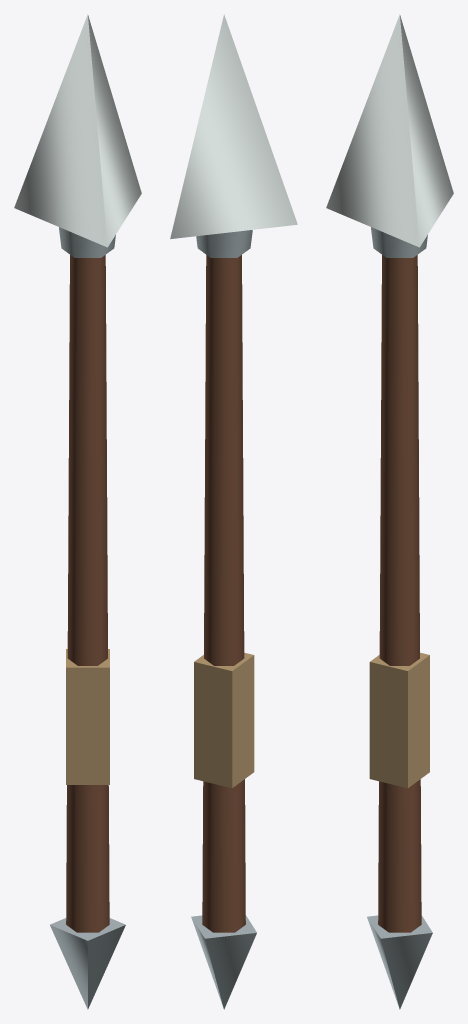
File: fixed-spear-lod1.glb
3 views of the same model, side by side, from view 1: azimuth 90°, elevation 25°; view 2: azimuth 150°, elevation 25°; view 3: azimuth 330°, elevation 25° (orthographic).
Visible parts, largest first — view 1: piece_whole; view 2: piece_whole; view 3: piece_whole.
Boxes of the visible parts, x1=… form: piece_whole: x1=14, y1=14, x2=141, y2=1009; piece_whole: x1=170, y1=14, x2=297, y2=1009; piece_whole: x1=326, y1=14, x2=453, y2=1009.
Size of the model in its own units: 0.2175 by 1.87 by 0.2175.
